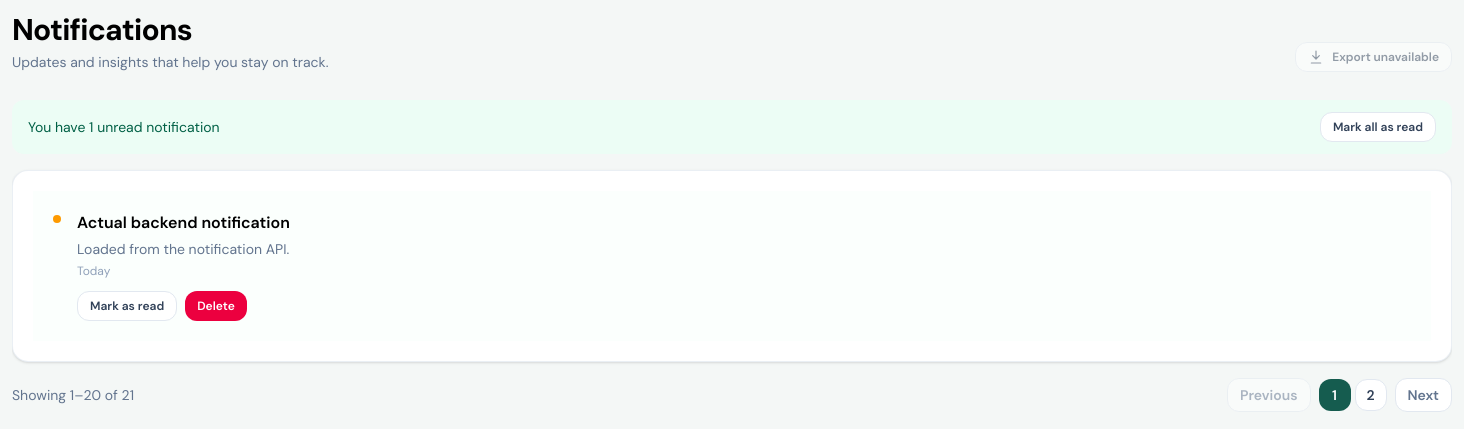
Test case: ClientNotifications › uses backend pagination metadata to load another page
This screenshot has width=1464, height=429.
Check: the text "Actual backend notification" is shown, box [77,212,290,233]
Click the button named "Go to page 2". click: [1370, 395]
box: [1354,379,1386,411]
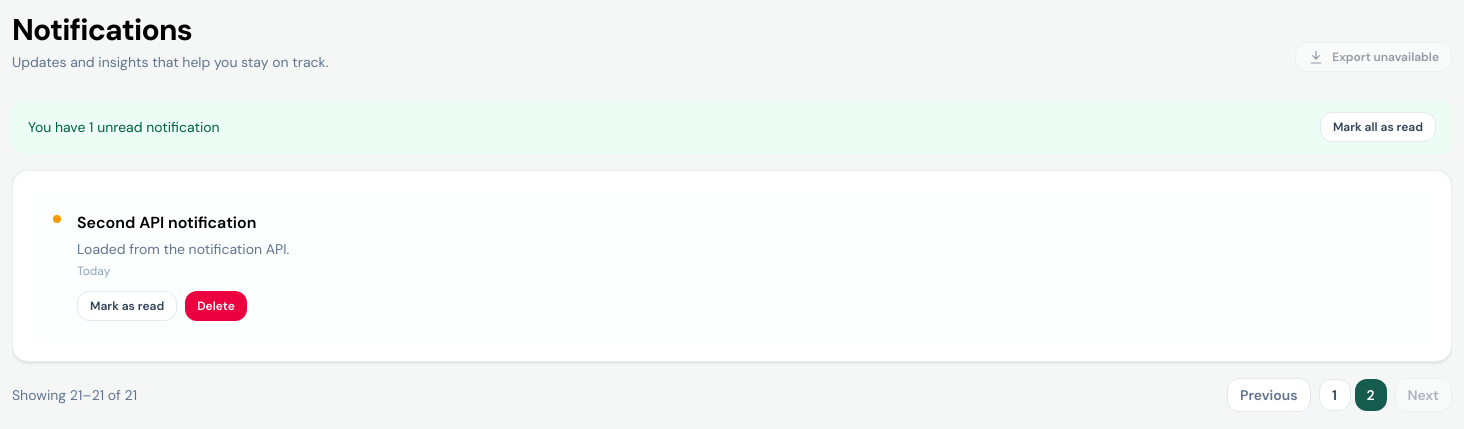
Check: the text "Second API notification" is shown, box [77,212,256,233]
